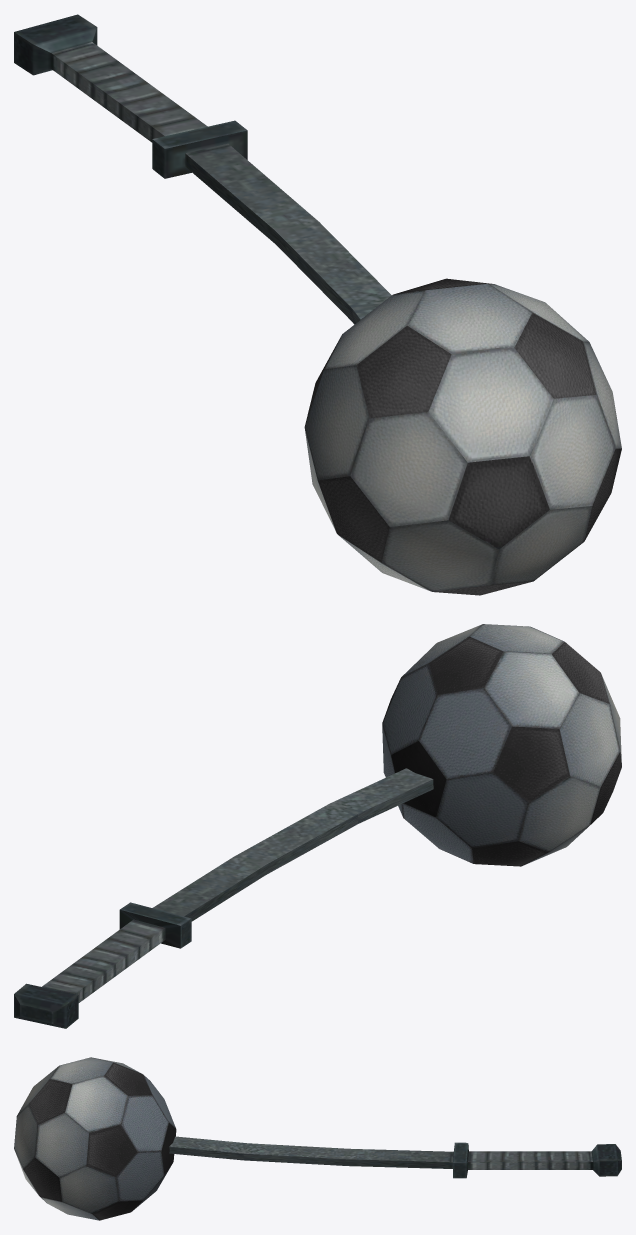
The picture shows the model from 3 angles, top to bottom: view 1: azimuth 30°, elevation 25°; view 2: azimuth 150°, elevation 25°; view 3: azimuth 270°, elevation 25°; orthographic projection. The views are drawn at different scales.
Parts seen in each view (by area): view 1: i002022; view 2: i002022; view 3: i002022.
Boxes of the visible parts, box(x1,y1,x2,y2) form: i002022: box(14, 14, 621, 595); i002022: box(14, 624, 621, 1028); i002022: box(14, 1057, 621, 1220).
Bounding box in the file's own units: 19.64 × 19.25 × 73.84.
1 material, 1 textured.
